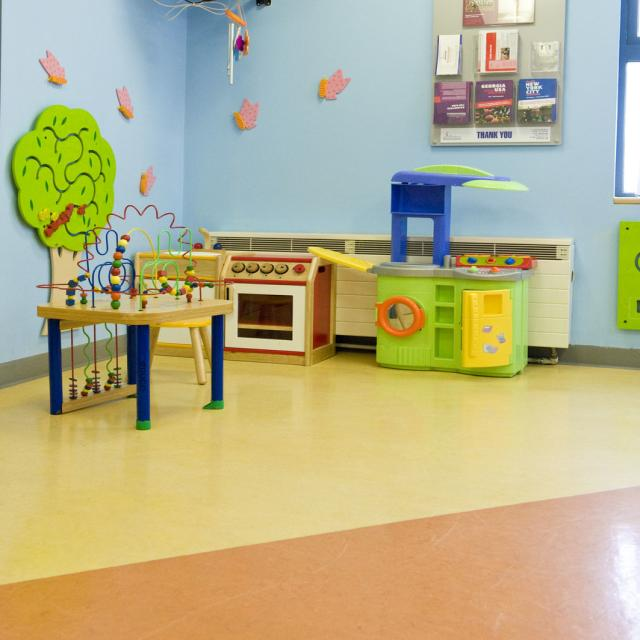desk: (38, 270, 268, 438)
